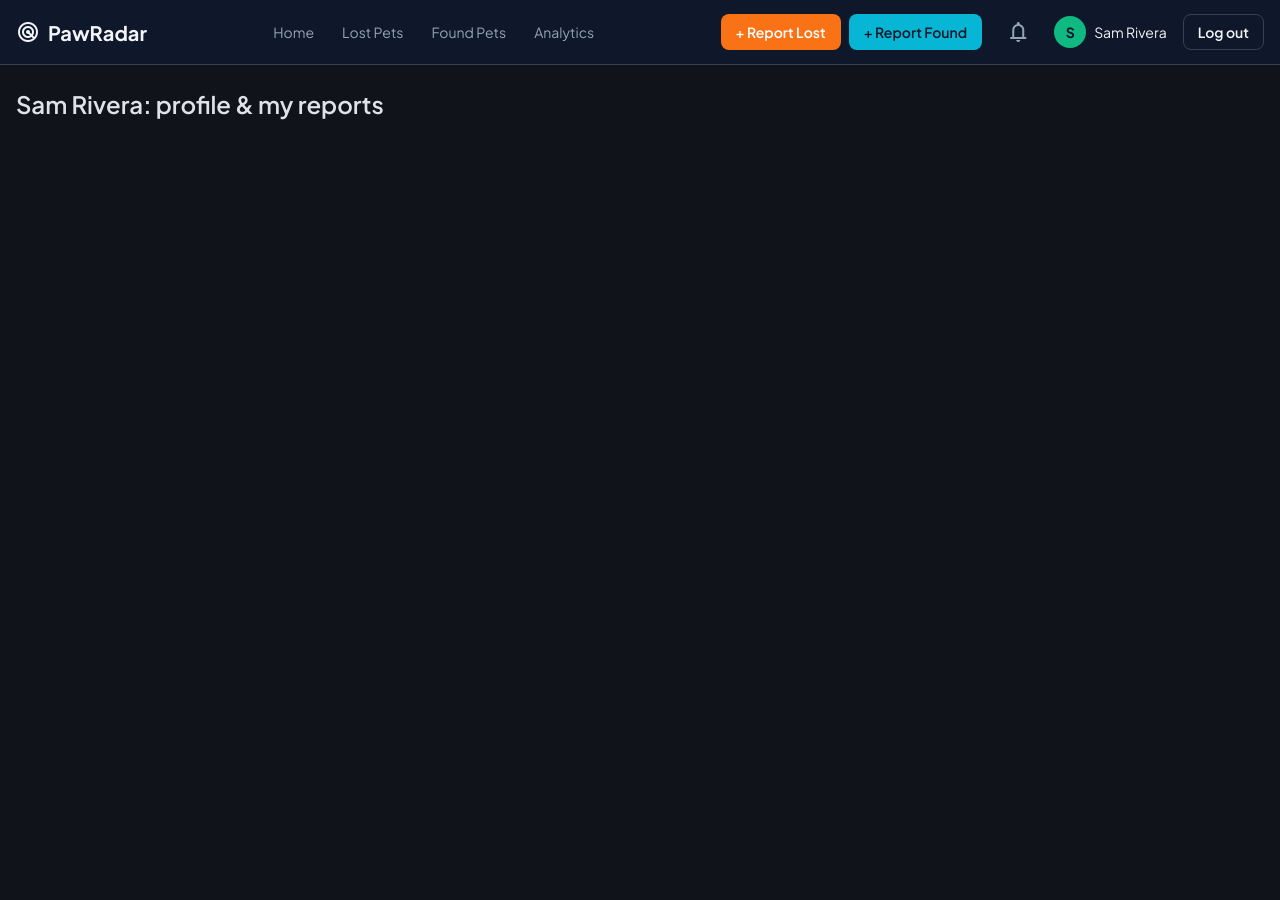
Test: LogoutButton › 8. redirects to the requested protected page after logout and signing in again
Click the button "Log out" at (1223, 32), box [1183, 14, 1264, 50]
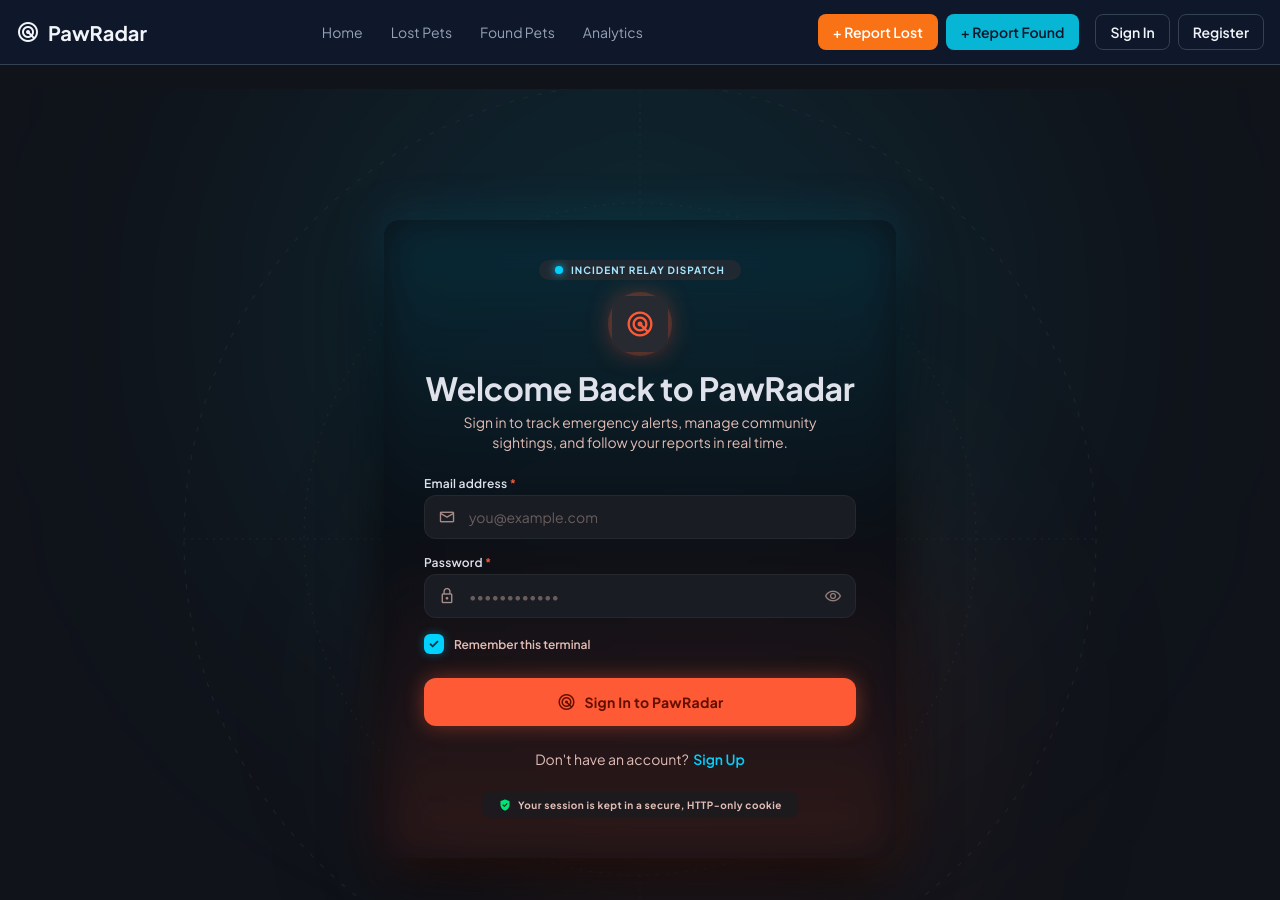
Check: the heading "Welcome Back to PawRadar" is shown, box [426, 368, 854, 408]
Click the link "+ Report Lost" at (878, 32), box [818, 14, 938, 50]
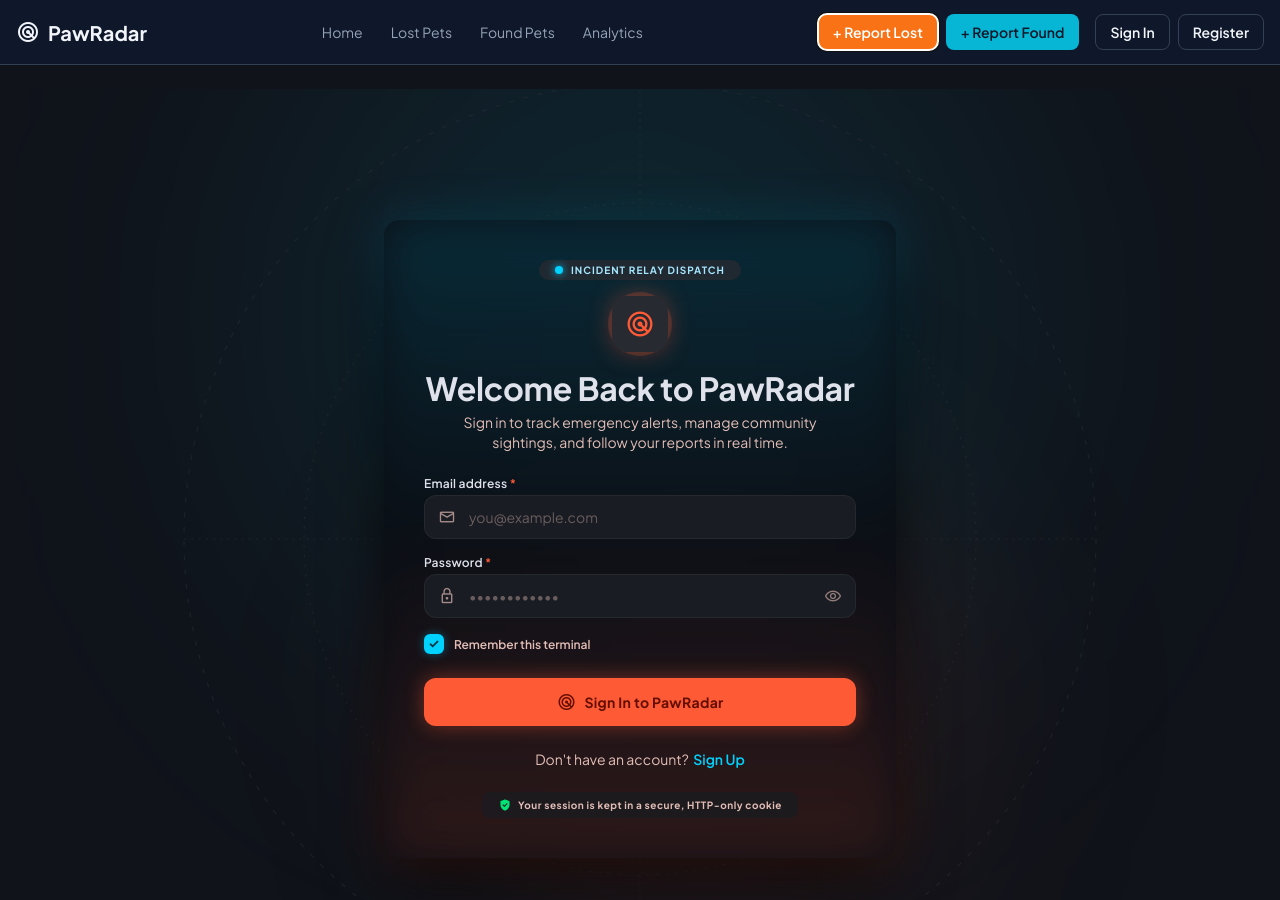
Check: the heading "Welcome Back to PawRadar" is shown, box [426, 368, 854, 408]
Type "sam@example.com" into the field labelled "Email address *" at (640, 517), box [424, 495, 856, 539]
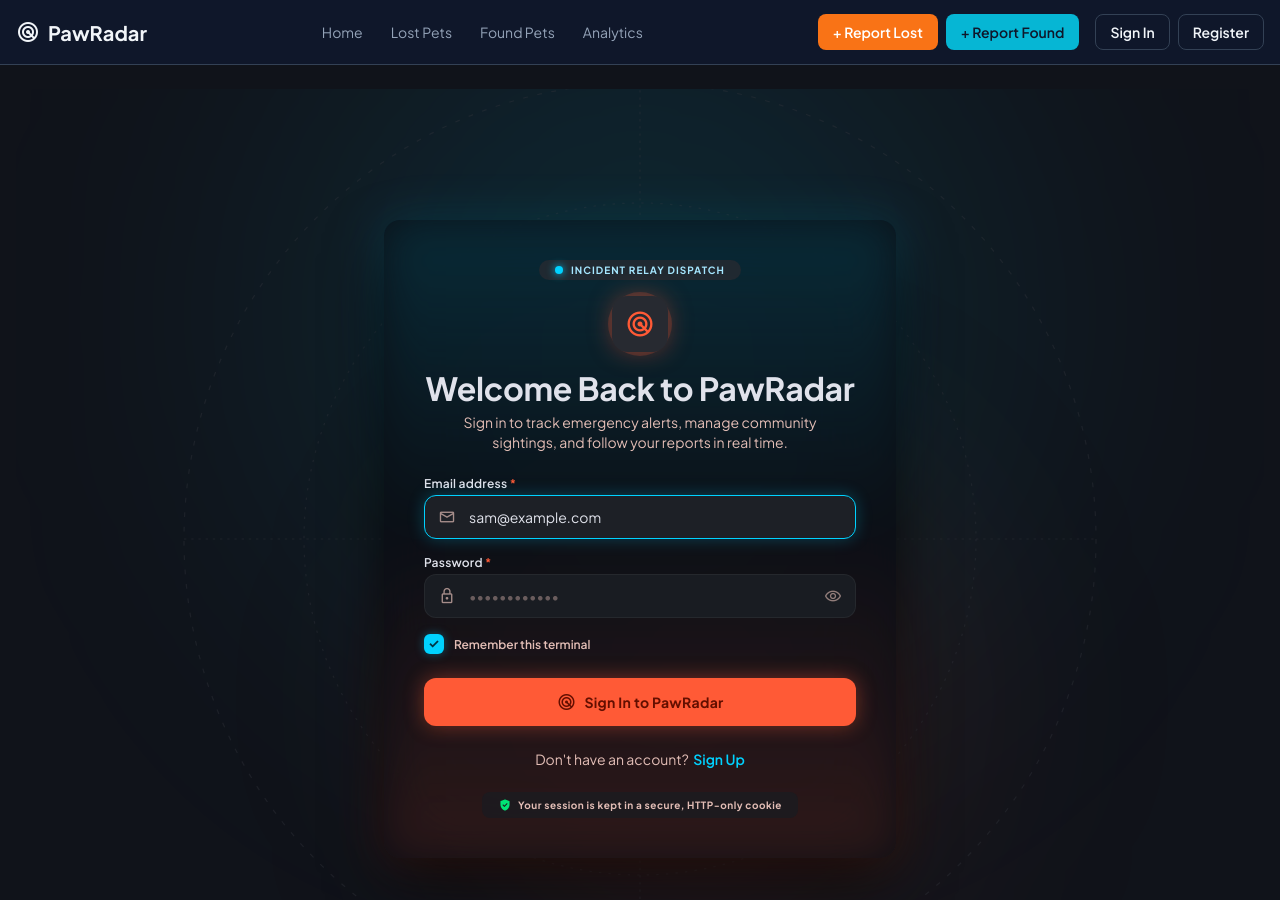
Type "correct-horse-1" into the password field labelled "Password *" at (640, 596), box [424, 574, 856, 618]
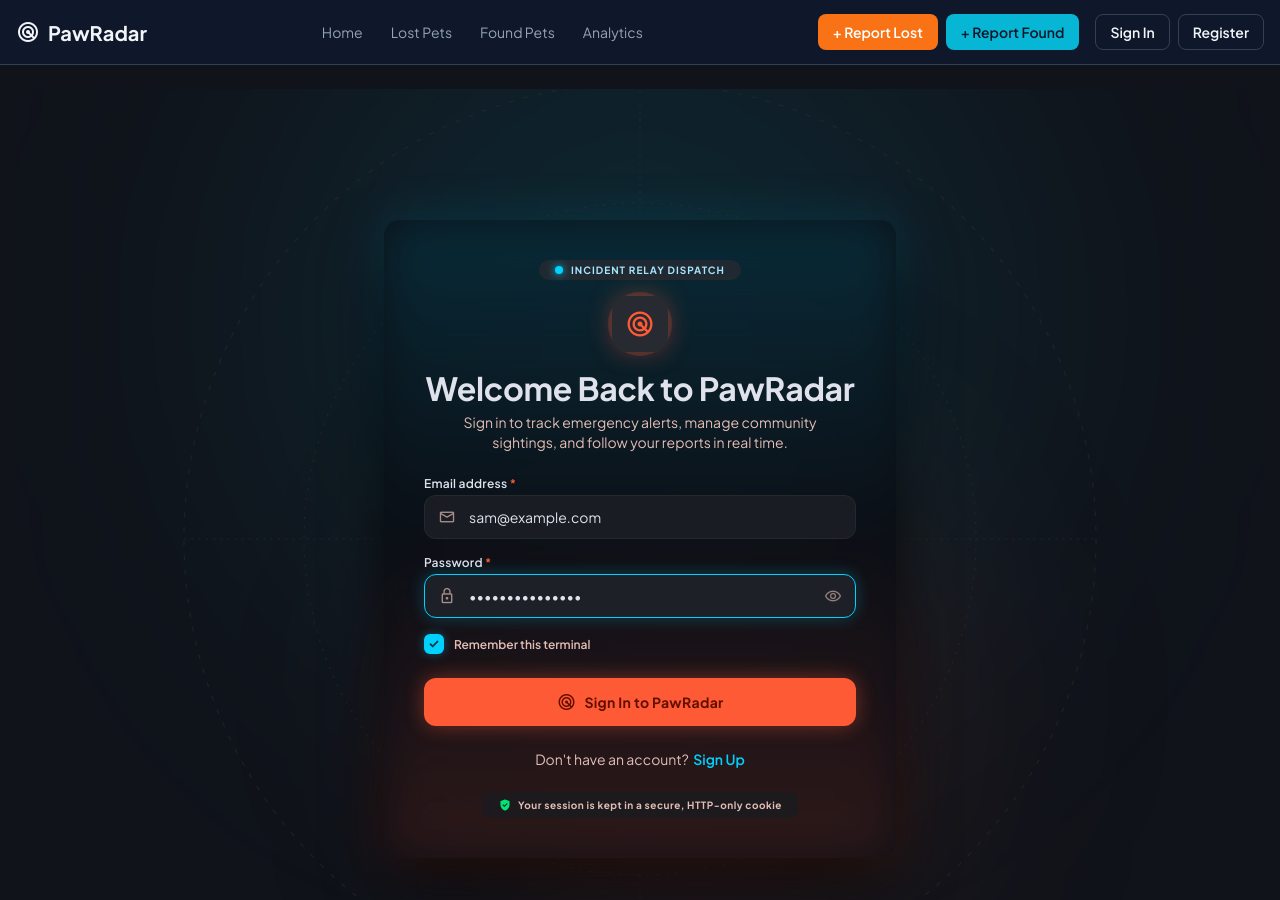
Click the button "Sign In to PawRadar" at (640, 702), box [424, 678, 856, 726]
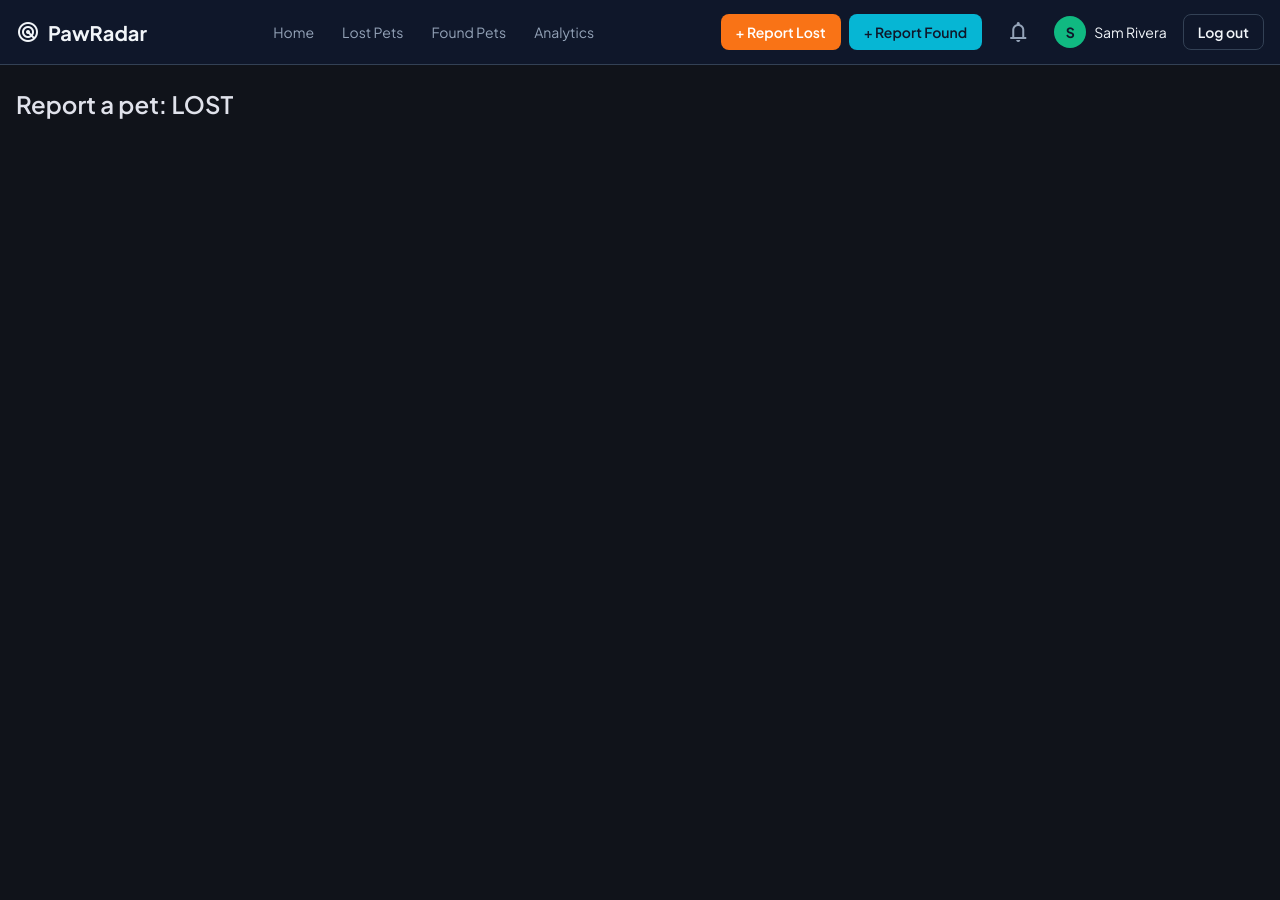
Check: the heading "Report a pet: LOST" is shown, box [16, 89, 233, 119]
